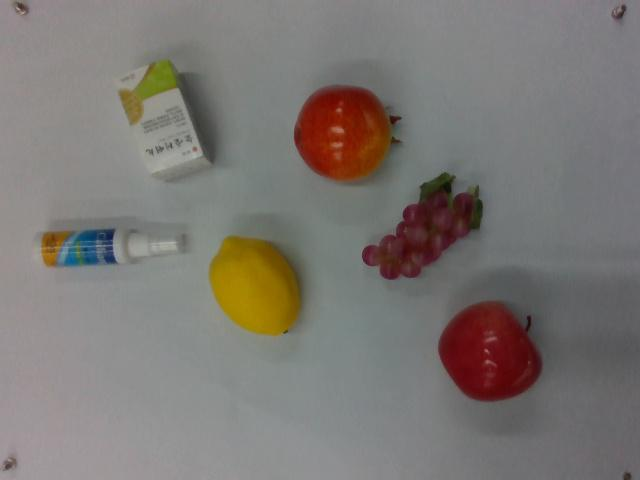apple: (435, 295, 552, 407)
carton: (111, 59, 213, 183)
detergent: (32, 227, 185, 269)
grape: (361, 173, 486, 285)
lemon: (211, 232, 305, 336)
pomegranate: (295, 82, 400, 182)
